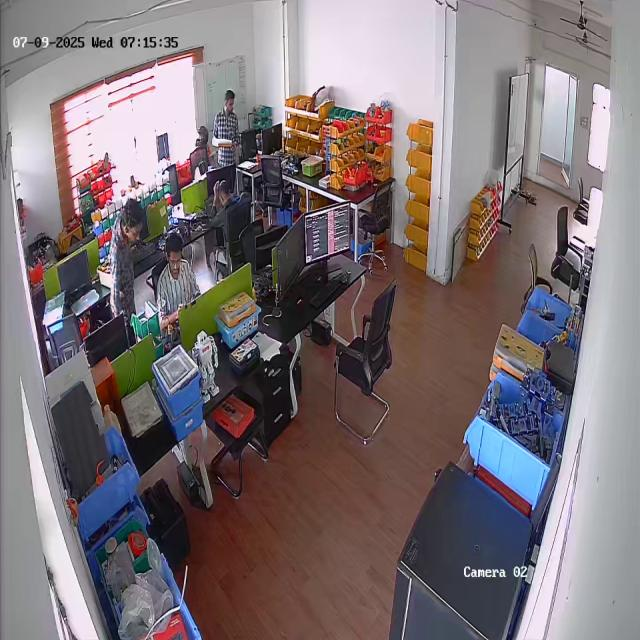person: (103, 197, 147, 322), (155, 233, 198, 323), (208, 181, 246, 270), (211, 88, 241, 165)
